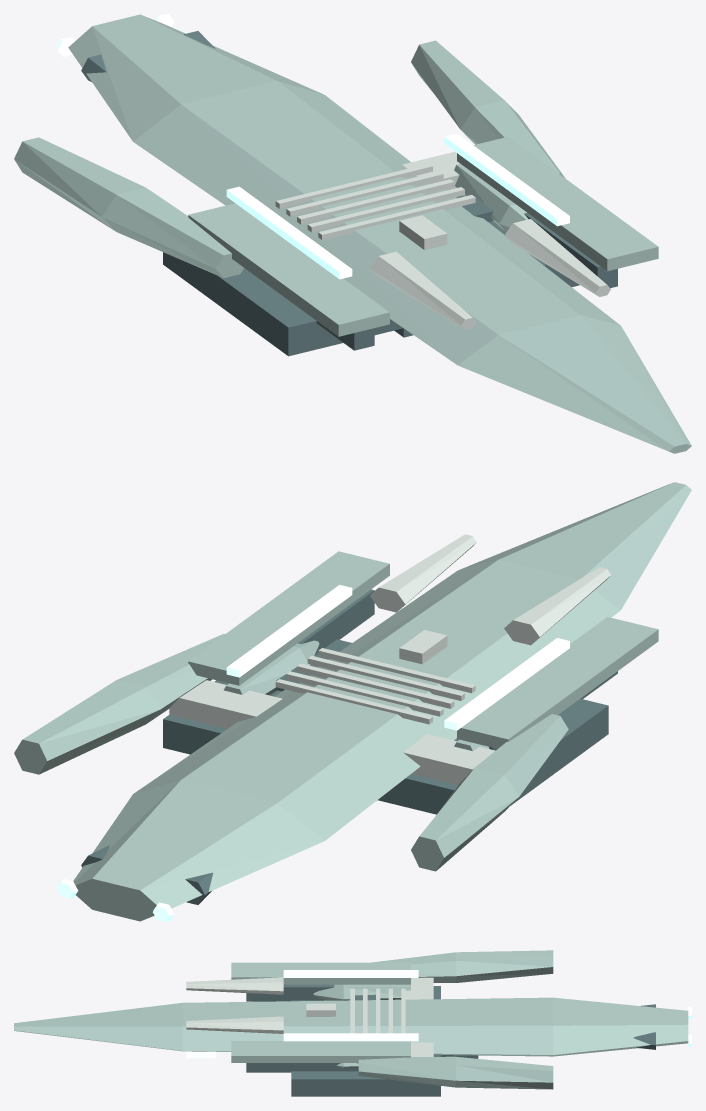
3 renders of one model, top to bottom at view 1: azimuth 30°, elevation 25°; view 2: azimuth 150°, elevation 25°; view 3: azimuth 270°, elevation 25°, orthographic. The views are drawn at different scales.
Size of the model in its own units: 7.53 by 1.67 by 17.2.
